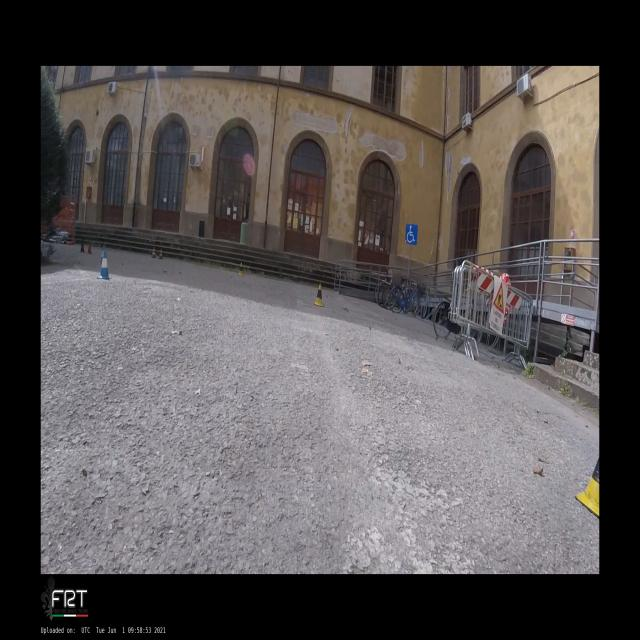blue_cone: (97, 250, 112, 278)
large_orange_cone: (151, 246, 156, 258), (159, 249, 163, 259)
unknown_cone: (88, 242, 92, 254), (80, 240, 84, 252)
yellow_cone: (314, 283, 324, 306), (238, 262, 244, 276)
